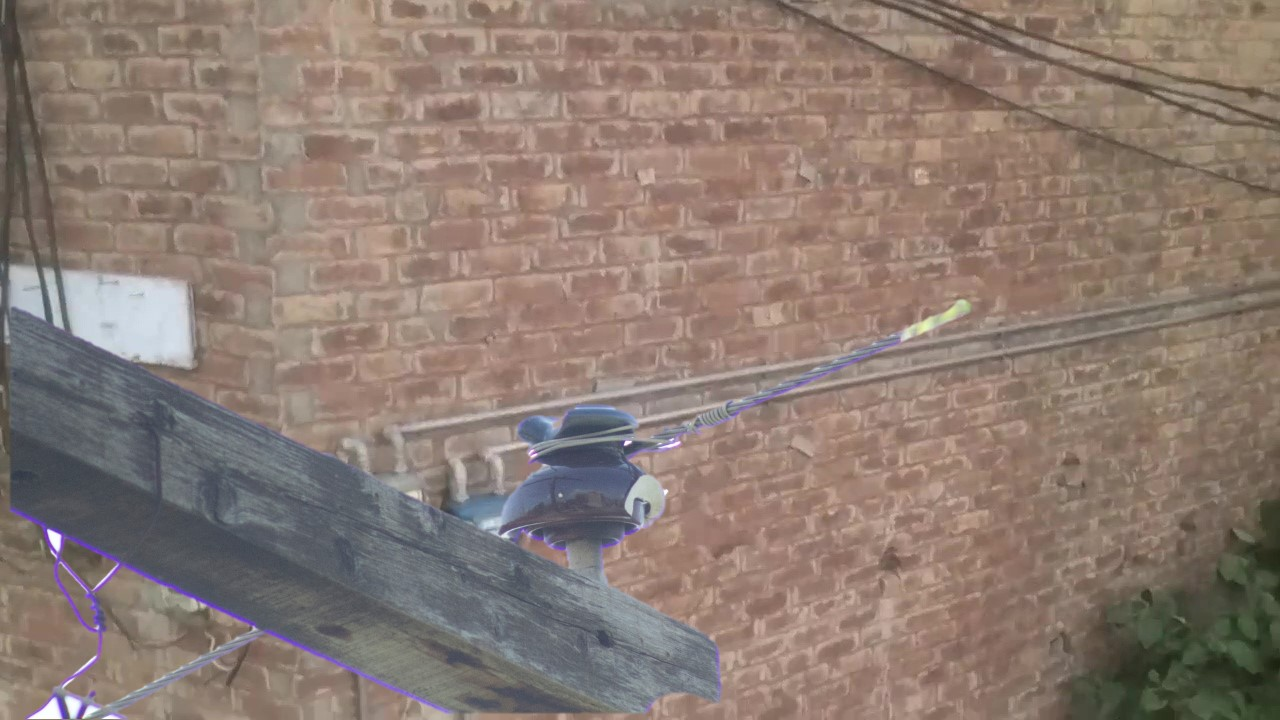defect_pin: (491, 403, 672, 551)
